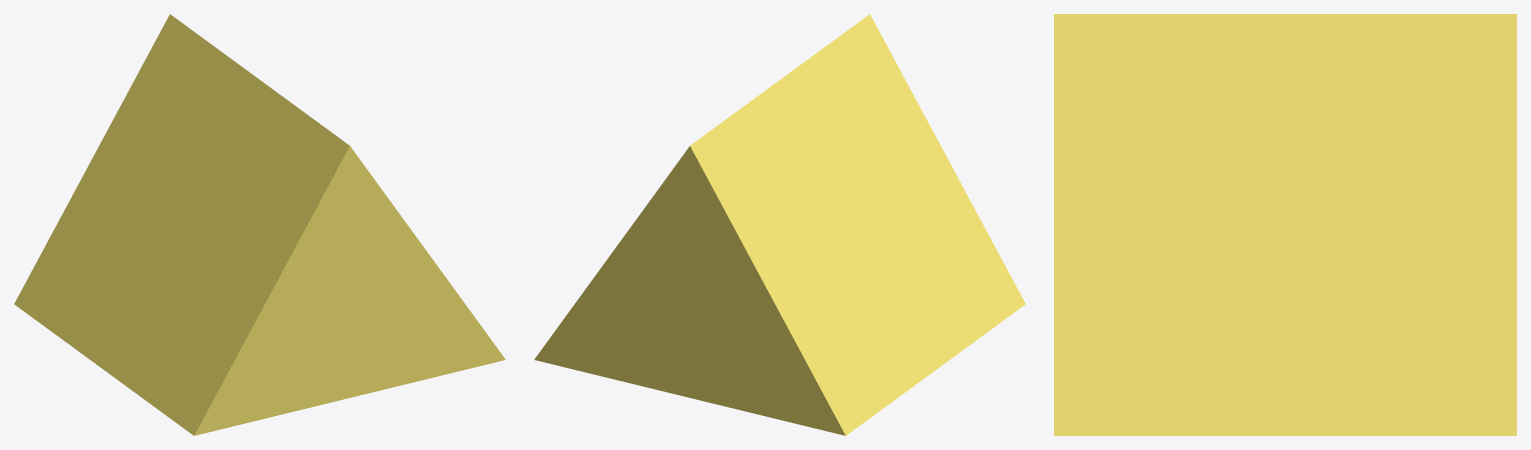
File: prism.glb
The picture shows the model from 3 angles, left to right: view 1: azimuth 30°, elevation 25°; view 2: azimuth 150°, elevation 25°; view 3: azimuth 270°, elevation 25°; orthographic projection. The views are drawn at different scales.
Size of the model in its own units: 22 by 17 by 22.
